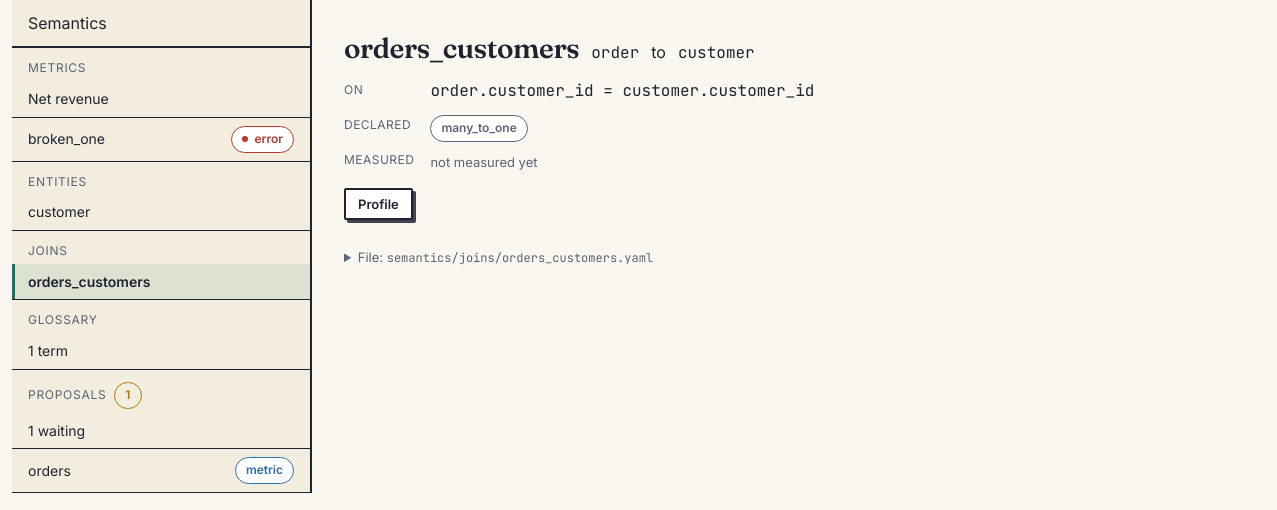
Test case: SemanticsView › Profile shows the measured cardinality and the warning when it disagrees
This screenshot has width=1277, height=510.
Expected: the text with test id "join-declared" reads "many_to_one", [441,120,517,135]
Expected: the element with test id "join-measured" reads "not measured yet", [430,154,538,170]
What coordinates should you click on to do the following:
click the button with test id "join-profile"
I would click on:
 (378, 204)
Its box is [344,188,413,220].
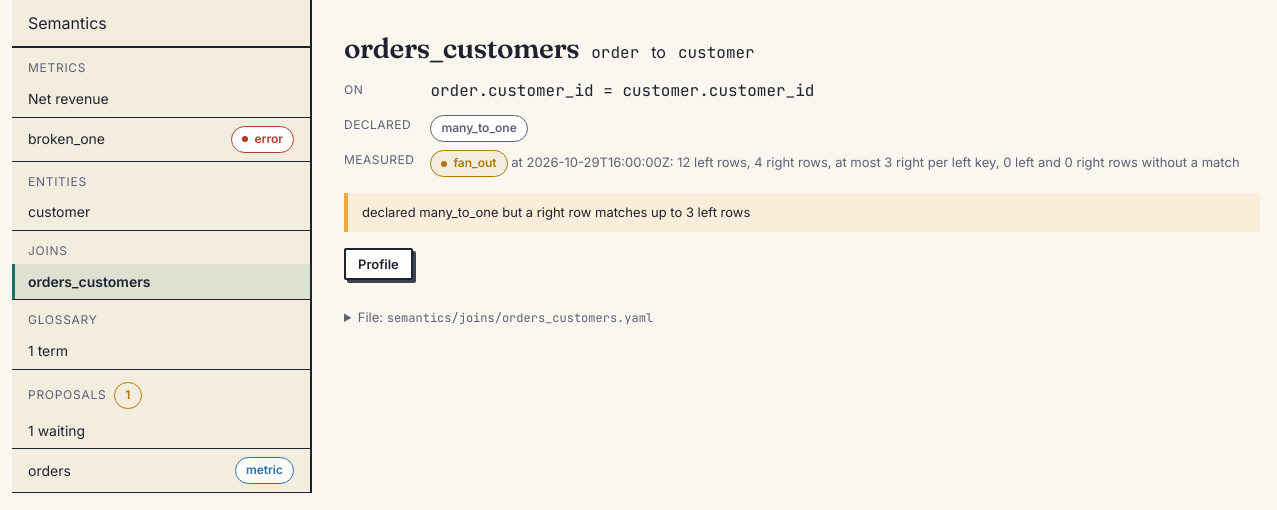
Expected: the element with test id "join-measured" shows "fan_out", [453,155,497,170]
Expected: the message with test id "join-warning" shows "up to 3 left rows", [362,204,750,220]
